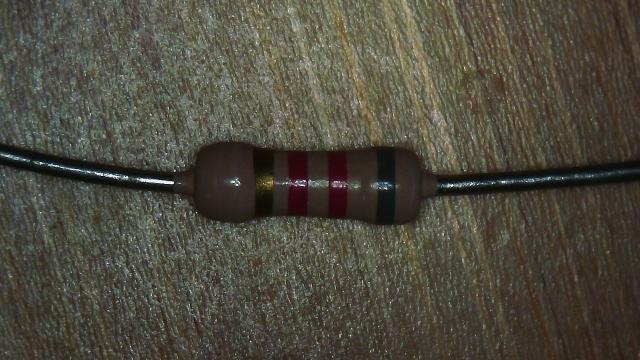gold: (253, 146, 273, 216)
grey: (378, 145, 395, 224)
red: (329, 150, 346, 219), (290, 150, 307, 216)
resistor: (171, 124, 450, 242)
